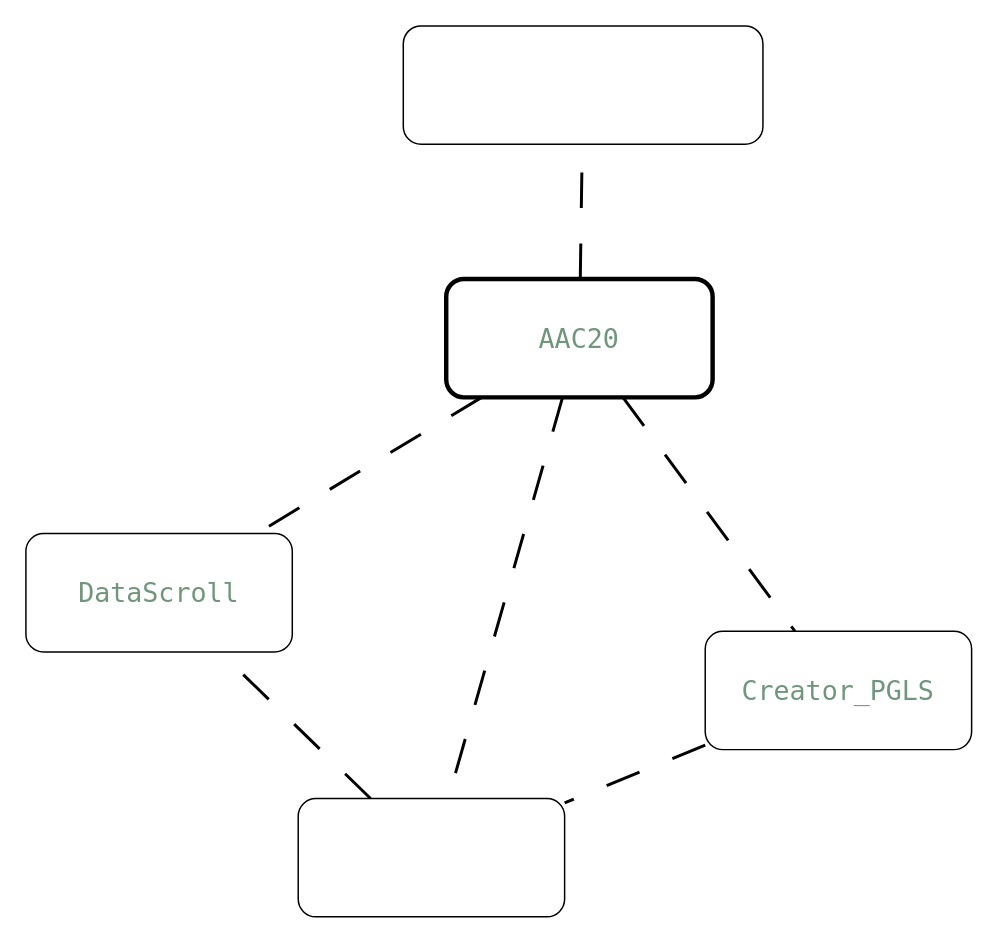
The diagram is 998 pixels wide and 943 high, and some of its shapes have lost their labels. Each missing label, with the centre of its shape:
"IEL" belongs at point (431, 857).
"InterpreterCommand" belongs at point (582, 84).
